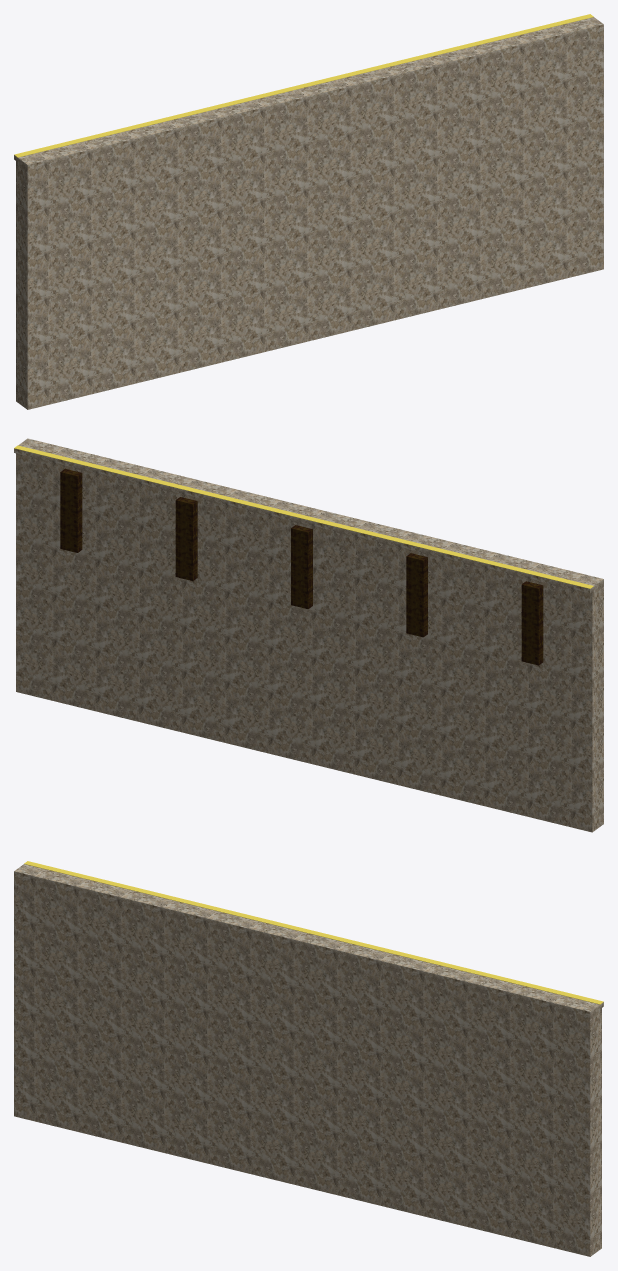
The model's file is quay-wall.loc-v1.lod0.glb.
3 renders of one model, top to bottom at view 1: azimuth 30°, elevation 25°; view 2: azimuth 150°, elevation 25°; view 3: azimuth 330°, elevation 25°, orthographic.
Parts seen in each view (by area): view 1: quay-wall; view 2: quay-wall; view 3: quay-wall.
Boxes of the visible parts, x1,y1,x2,y2 form: quay-wall: (14,14,603,409); quay-wall: (14,438,603,832); quay-wall: (14,861,603,1256).
Size of the model in its own units: 40 by 16.27 by 1.95.
3 materials, 2 textured.
